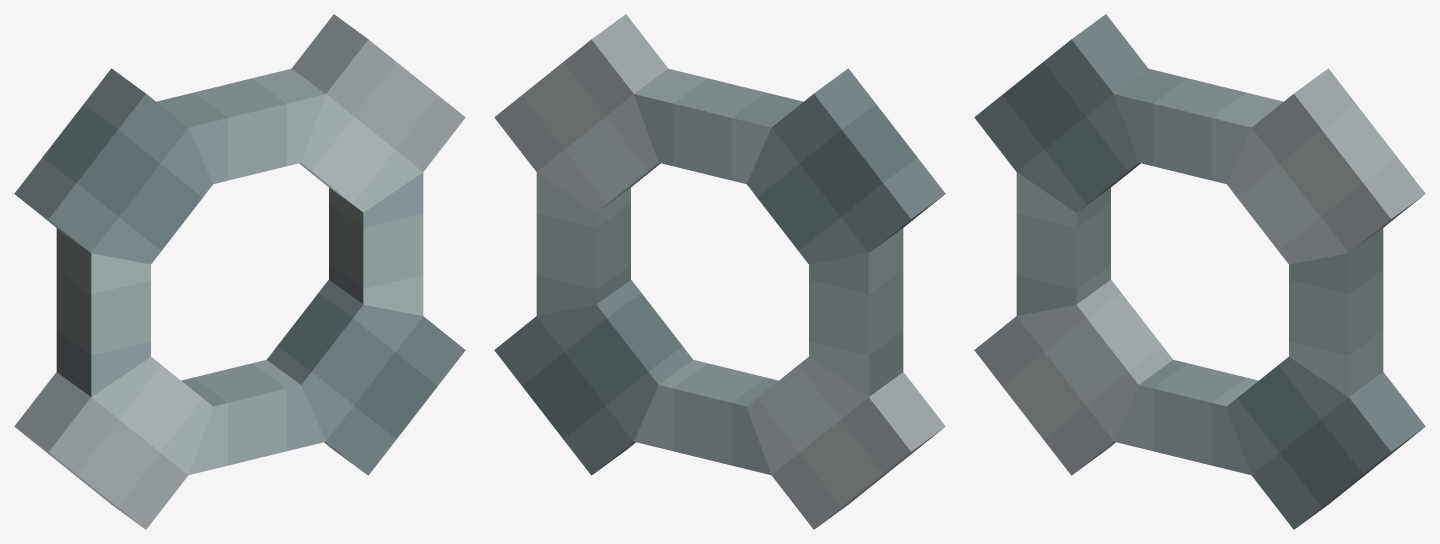
File: lodestar_gearsmall.obj
3 views of the same model, side by side, from view 1: azimuth 30°, elevation 25°; view 2: azimuth 150°, elevation 25°; view 3: azimuth 330°, elevation 25° (orthographic).
Visible parts, largest first — view 1: GEAR_SMALL_Cylinder.002; view 2: GEAR_SMALL_Cylinder.002; view 3: GEAR_SMALL_Cylinder.002.
Part boxes in pixels (box(x1,y1,x2,y2)): GEAR_SMALL_Cylinder.002: box(14, 14, 465, 529); GEAR_SMALL_Cylinder.002: box(494, 14, 945, 529); GEAR_SMALL_Cylinder.002: box(974, 14, 1425, 529).
Bounding box in the file's own units: 0.4348 × 0.4348 × 0.0625.
